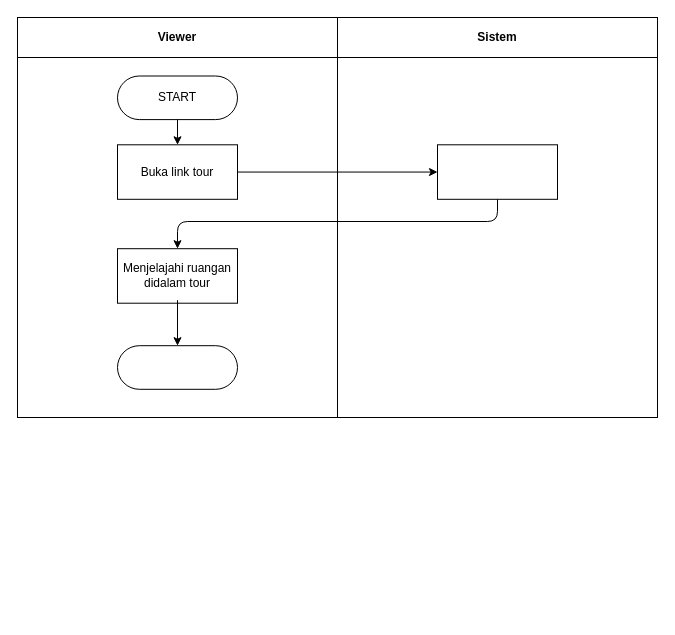
The diagram is 675 pixels wide and 635 high, and some of its shapes have lost their labels. The shapes that lost their labels are listed below. From the top down, each one's centre as x and y in pixels, then its label:
At [497,171]: "Tampilkan virtual tour".
At [177,367]: "END".
